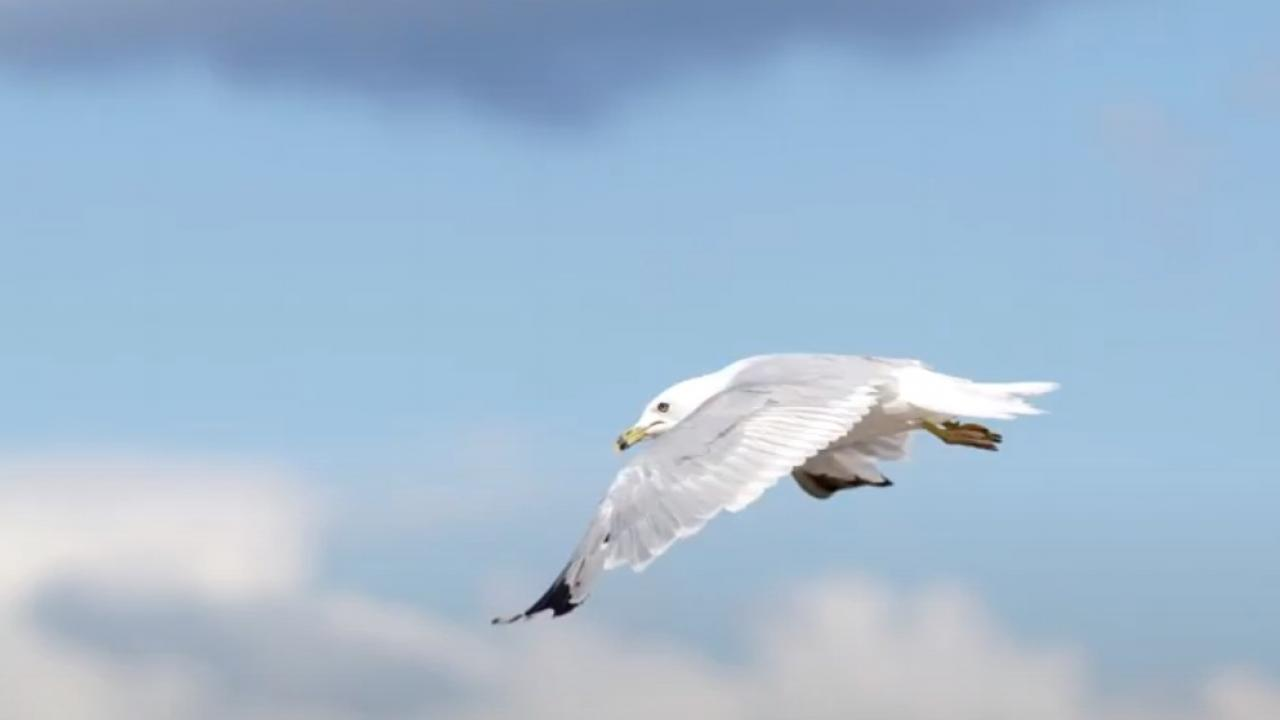Bird: (483, 343, 1066, 636)
